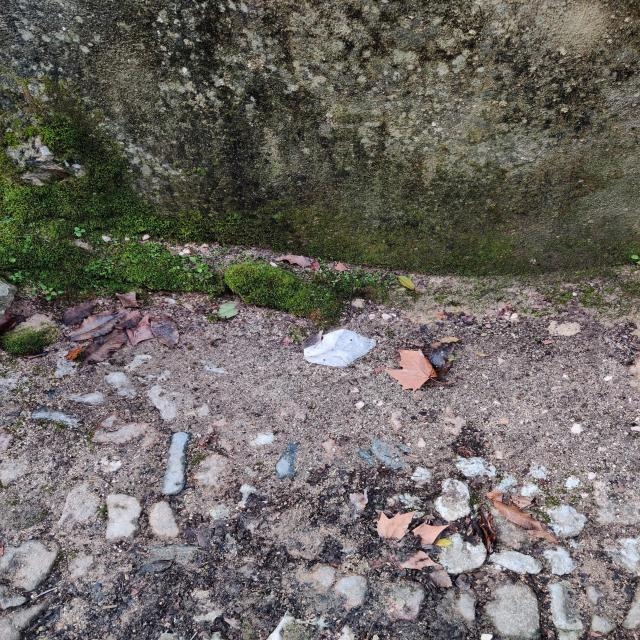litter: (300, 329, 375, 365)
